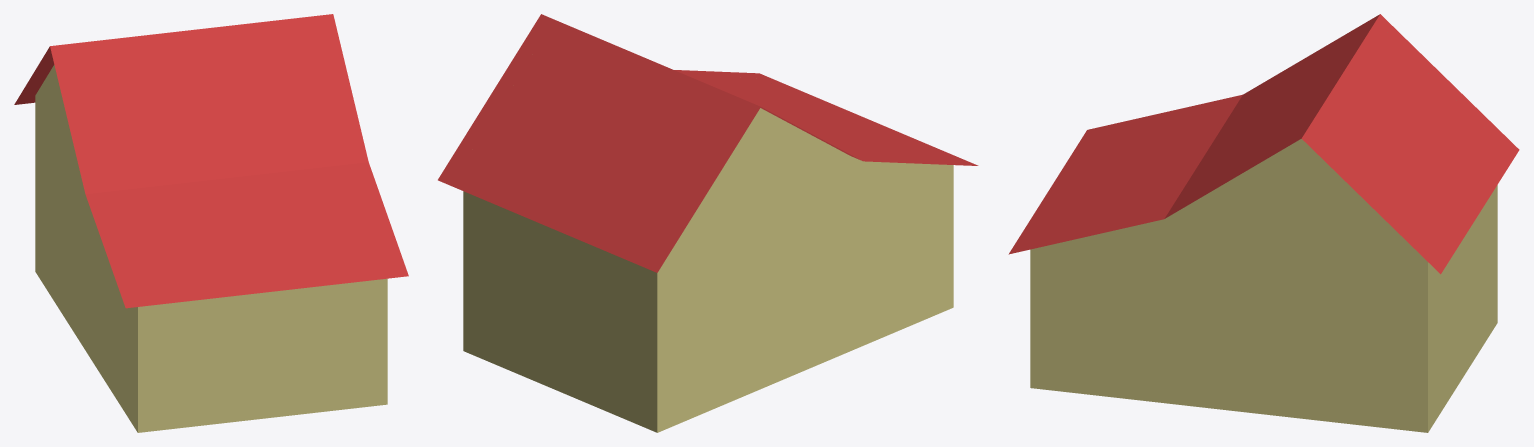
3 renders of one model, left to right at view 1: azimuth 30°, elevation 25°; view 2: azimuth 150°, elevation 25°; view 3: azimuth 270°, elevation 25°, orthographic. The views are drawn at different scales.
Bounding box in the file's own units: 17.12 × 21.33 × 13.25.
